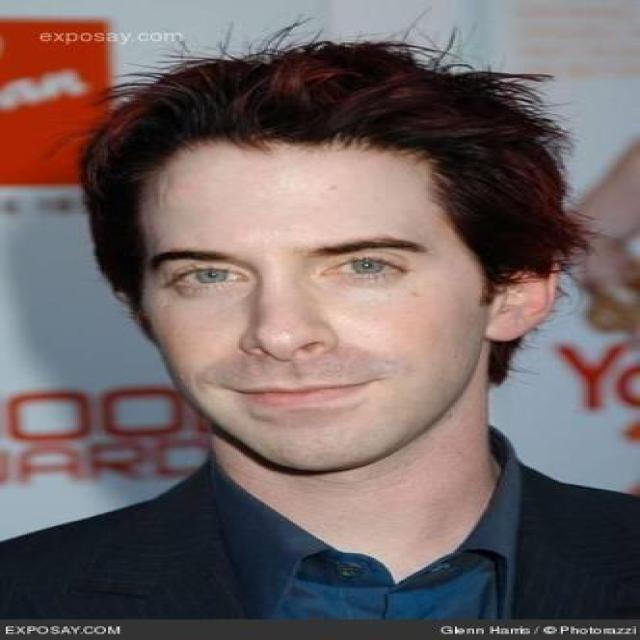0_rostro_limpio: (88, 86, 562, 476)
